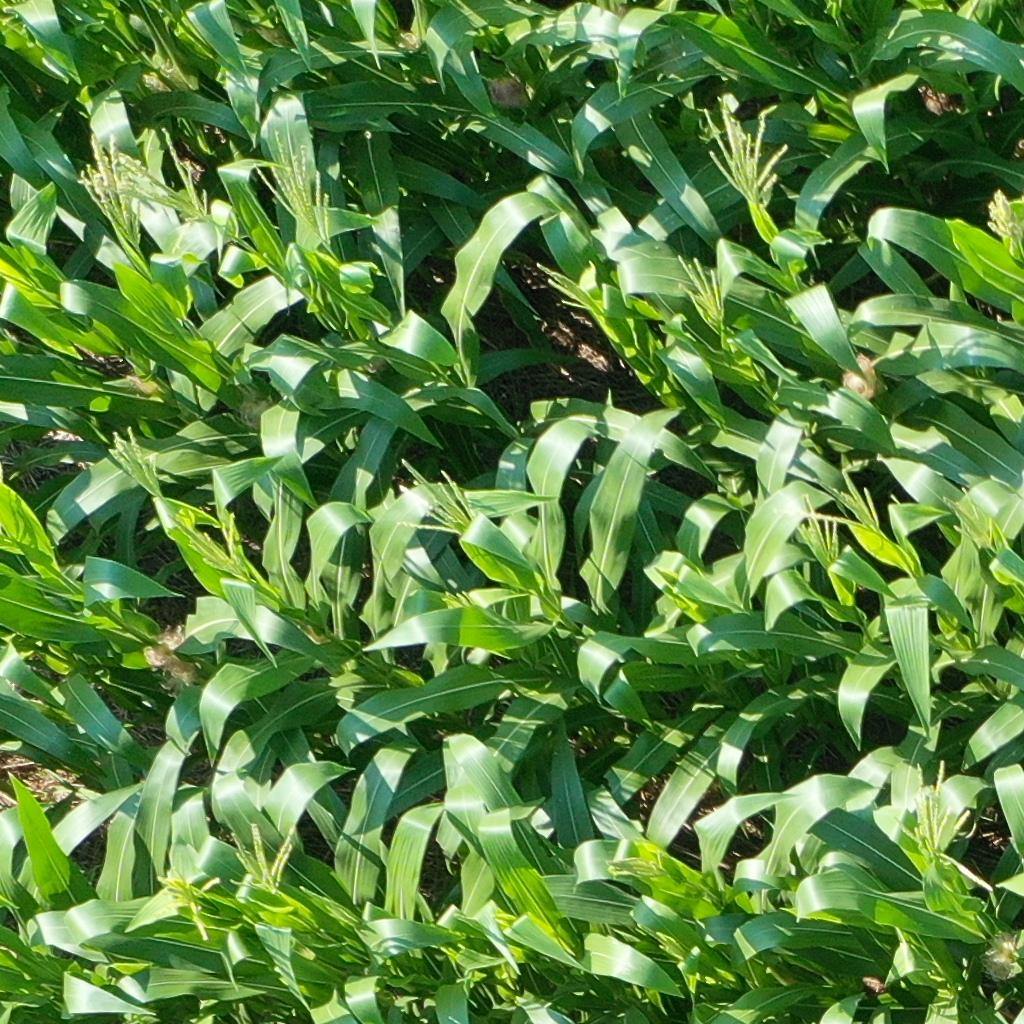Tassel: (73, 119, 214, 225), (238, 108, 337, 258), (694, 85, 791, 217), (69, 131, 150, 254), (888, 755, 970, 868), (382, 452, 484, 539), (167, 508, 256, 591), (786, 462, 885, 536), (151, 857, 226, 942), (223, 819, 299, 900), (937, 480, 1008, 559), (528, 262, 610, 326), (108, 419, 166, 501), (672, 252, 728, 335), (794, 490, 844, 572), (985, 182, 1024, 247), (598, 851, 659, 884), (1, 1, 30, 37)
